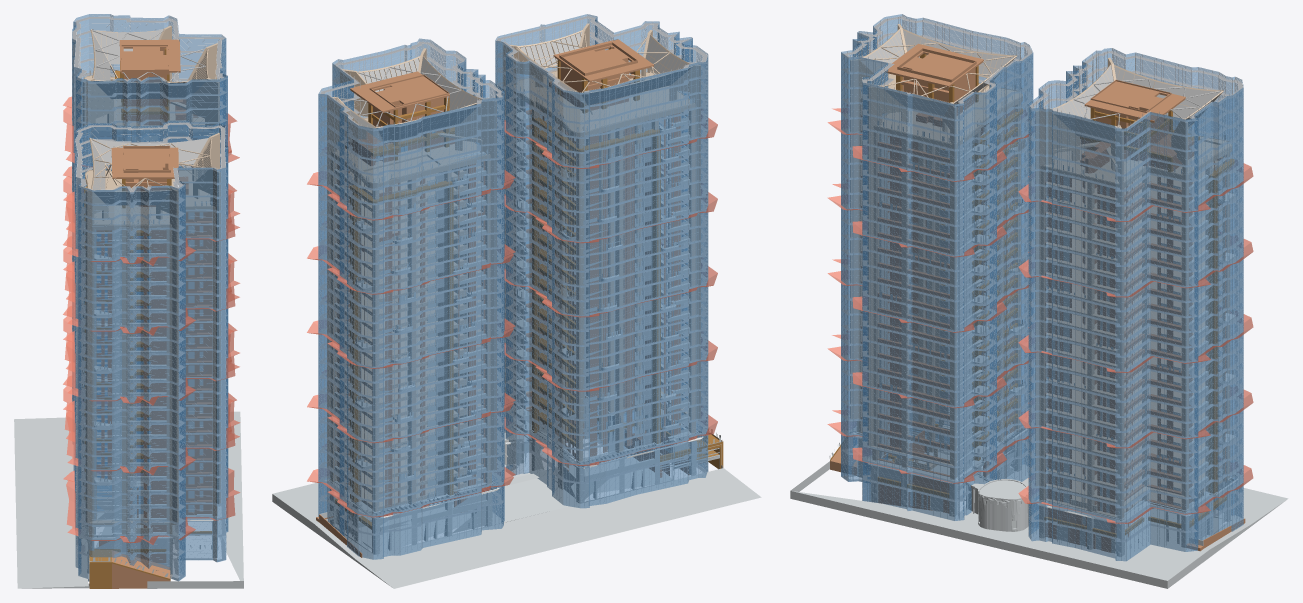
3 views of the same model, side by side, from view 1: azimuth 30°, elevation 25°; view 2: azimuth 150°, elevation 25°; view 3: azimuth 270°, elevation 25° (orthographic). The views are drawn at different scales.
Visible parts, largest first — view 1: 預設值, BR 309玫瑰金, 橫磚, 擴張網, NT_A_27, NT_B_28, 豎磚, NT_B_27, NT_A_02, NT_B_26, NT_A_26, NT_A_01 (+75 smaller); view 2: 預設值, BR 309玫瑰金, 橫磚, 豎磚, 擴張網, NT_A_27, NT_B_28, NT_A_01, NT_B_01, NT_A_02, NT_A_26, NT_B_27 (+138 smaller); view 3: BR 309玫瑰金, 橫磚, 預設值, 豎磚, 擴張網, NT_B_28, NT_A_27, NT_B_01, NT_B_27, NT_B_02, NT_B_25, NT_B_26 (+150 smaller).
Boxes of the visible parts, x1=… form: 預設值: x1=14, y1=70, x2=243, y2=588; BR 309玫瑰金: x1=82, y1=25, x2=220, y2=583; 橫磚: x1=96, y1=39, x2=212, y2=588; 擴張網: x1=91, y1=29, x2=210, y2=205; NT_A_27: x1=74, y1=122, x2=228, y2=208; NT_B_28: x1=72, y1=18, x2=227, y2=99; 豎磚: x1=82, y1=48, x2=212, y2=588; NT_B_27: x1=72, y1=30, x2=227, y2=113; NT_A_02: x1=75, y1=476, x2=227, y2=560; NT_B_26: x1=72, y1=46, x2=227, y2=127; NT_A_26: x1=74, y1=138, x2=228, y2=222; NT_A_01: x1=75, y1=493, x2=228, y2=581; 預設值: x1=272, y1=65, x2=761, y2=588; BR 309玫瑰金: x1=327, y1=23, x2=721, y2=513; 橫磚: x1=316, y1=39, x2=689, y2=557; 豎磚: x1=334, y1=48, x2=723, y2=529; 擴張網: x1=338, y1=32, x2=691, y2=495; NT_A_27: x1=495, y1=18, x2=708, y2=109; NT_B_28: x1=318, y1=44, x2=504, y2=146; NT_A_01: x1=505, y1=421, x2=708, y2=508; NT_B_01: x1=318, y1=493, x2=504, y2=559; NT_A_02: x1=504, y1=405, x2=708, y2=484; NT_A_26: x1=495, y1=34, x2=708, y2=124; NT_B_27: x1=318, y1=59, x2=504, y2=160; BR 309玫瑰金: x1=850, y1=24, x2=1232, y2=520; 橫磚: x1=830, y1=43, x2=1245, y2=552; 預設值: x1=790, y1=84, x2=1288, y2=588; 豎磚: x1=830, y1=54, x2=1234, y2=537; 擴張網: x1=860, y1=30, x2=1221, y2=414; NT_B_28: x1=1028, y1=53, x2=1243, y2=146; NT_A_27: x1=841, y1=19, x2=1033, y2=121; NT_B_01: x1=1028, y1=494, x2=1243, y2=561; NT_B_27: x1=1028, y1=70, x2=1243, y2=161; NT_B_02: x1=1028, y1=475, x2=1243, y2=542; NT_B_25: x1=1028, y1=115, x2=1243, y2=191; NT_B_26: x1=1028, y1=106, x2=1243, y2=176.
Bounding box in the file's own units: 87.05 × 99.32 × 102.
